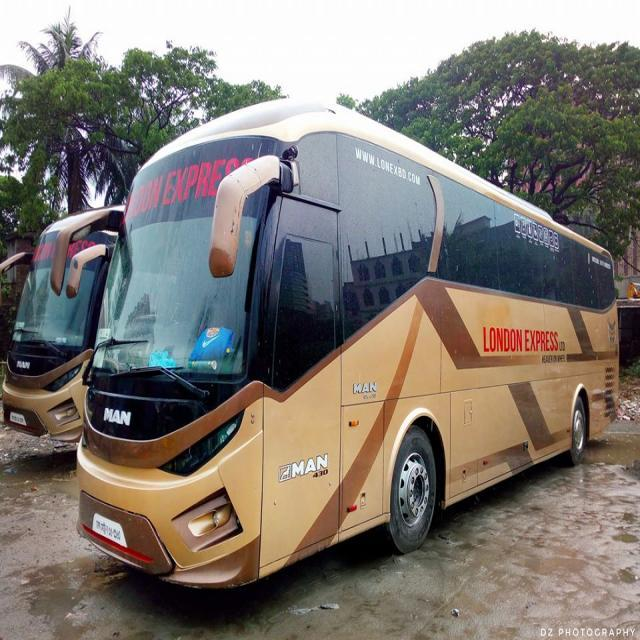bus: (47, 95, 621, 593)
